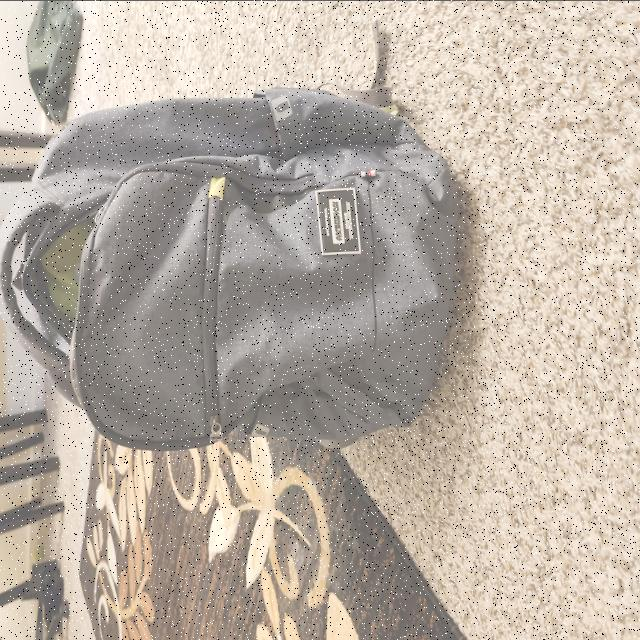bag: (0, 114, 453, 426)
